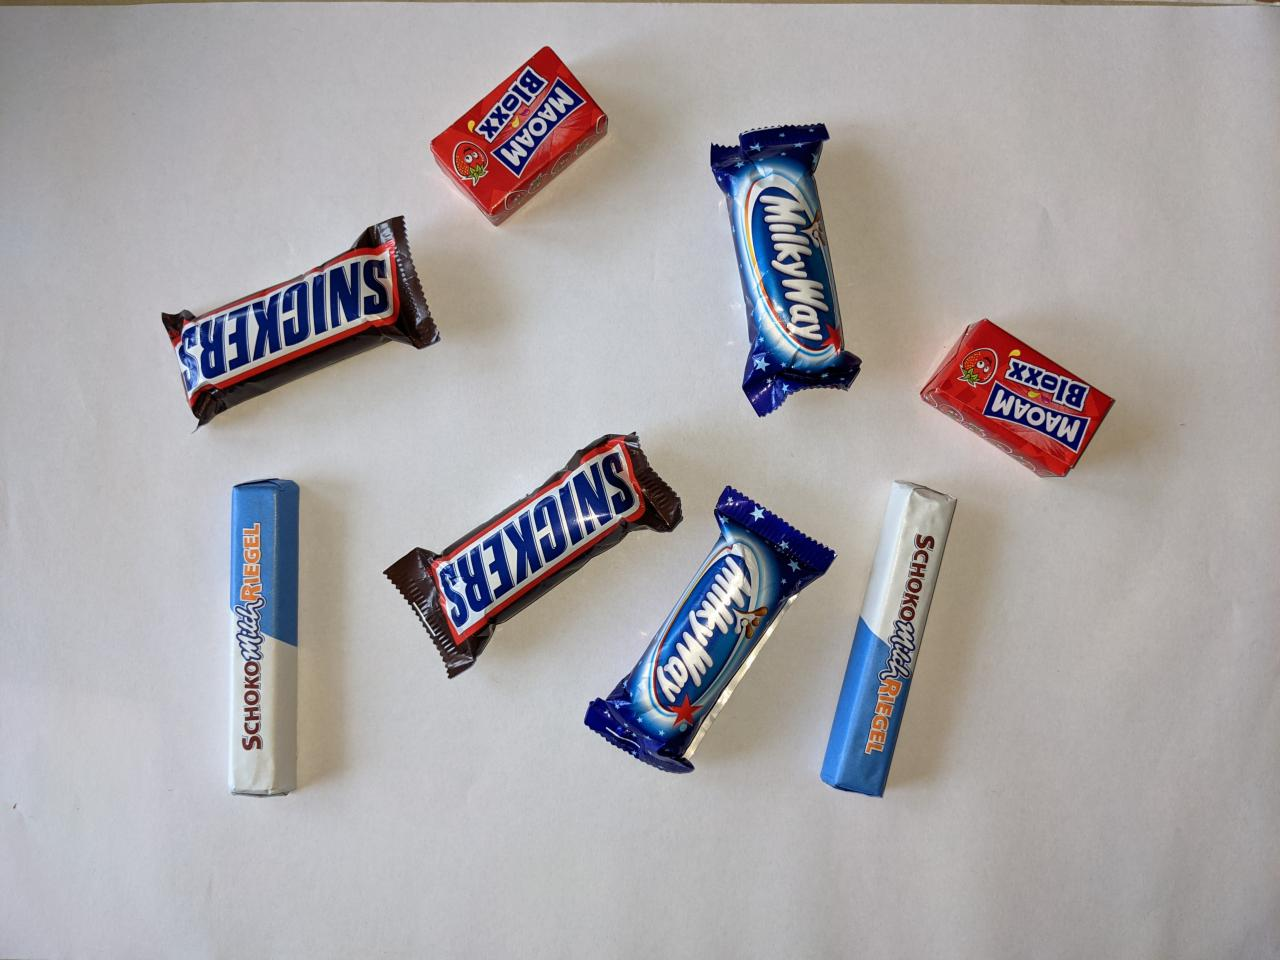MAOAM: (915, 314, 1127, 487), (425, 39, 617, 231)
MilkyWay: (575, 478, 844, 784), (700, 111, 868, 424)
Schokoriegel: (813, 470, 966, 804), (219, 469, 311, 808)
Snickers: (373, 419, 692, 687), (151, 205, 450, 439)
